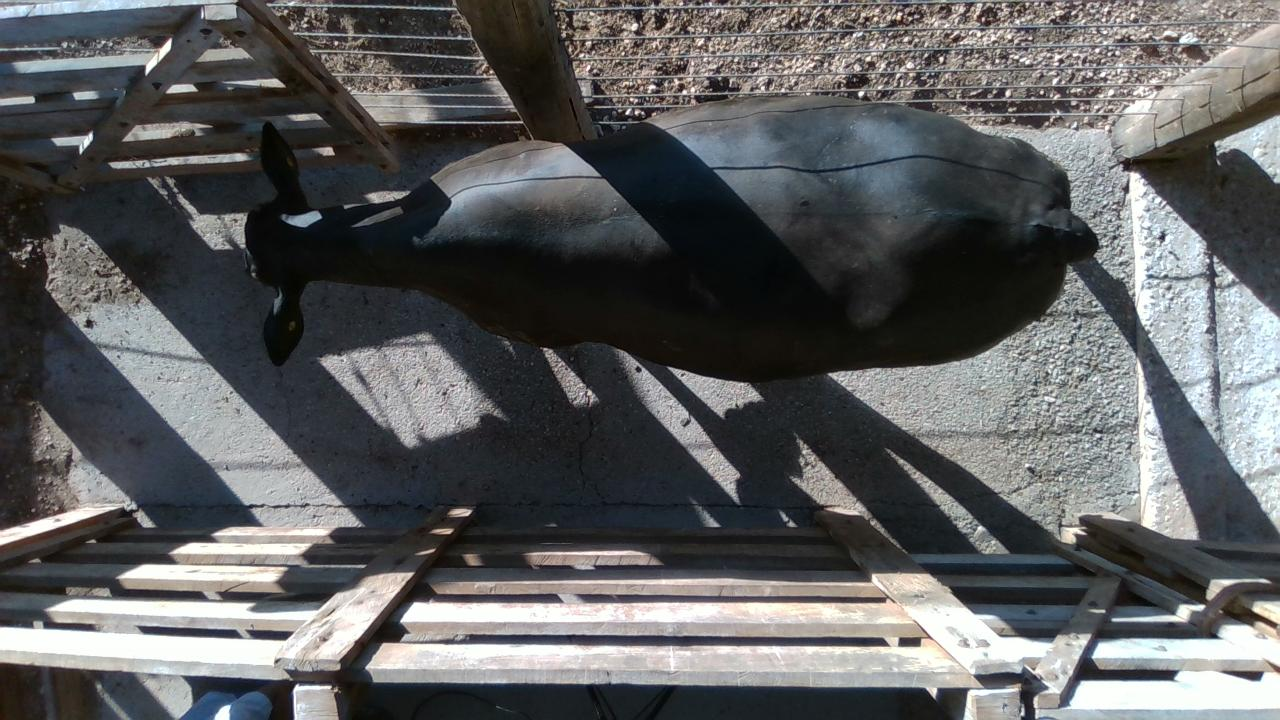cattle: (242, 92, 1099, 384)
